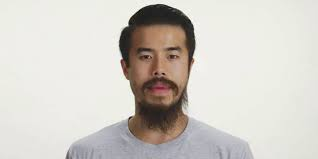asian_male: (114, 1, 202, 128)
